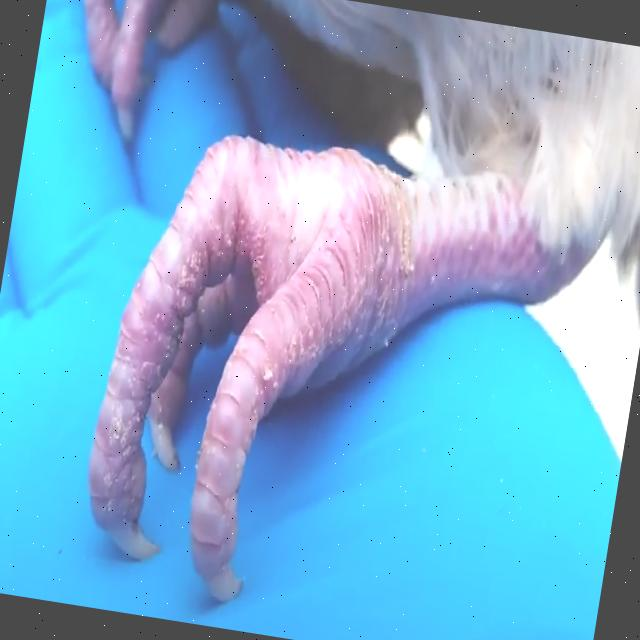Infectios bronchitis: (78, 122, 476, 620), (55, 0, 190, 145)
